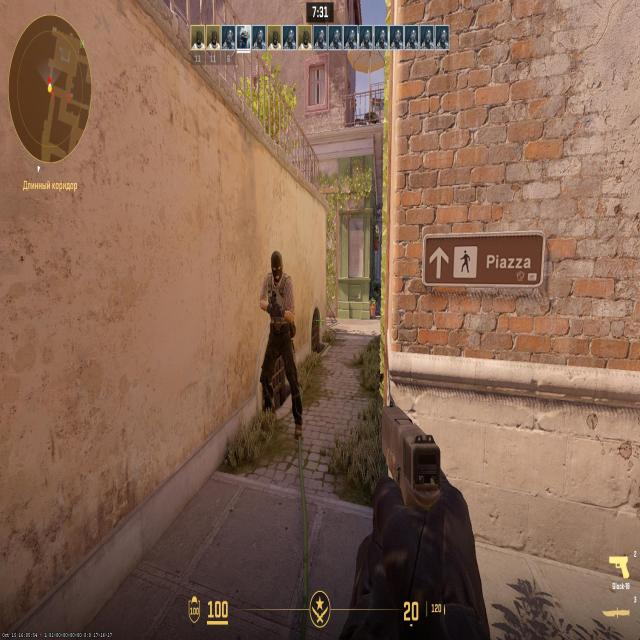T: (264, 256, 299, 436)
T_heat: (274, 256, 286, 282)
